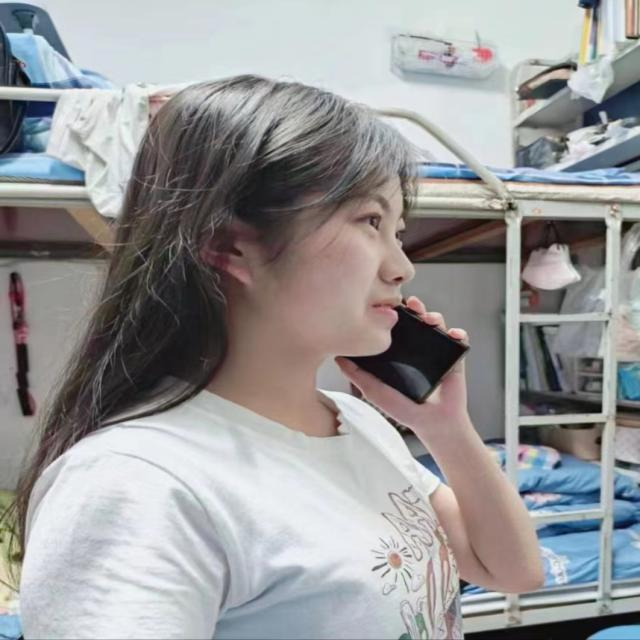phone: (354, 309, 468, 401)
